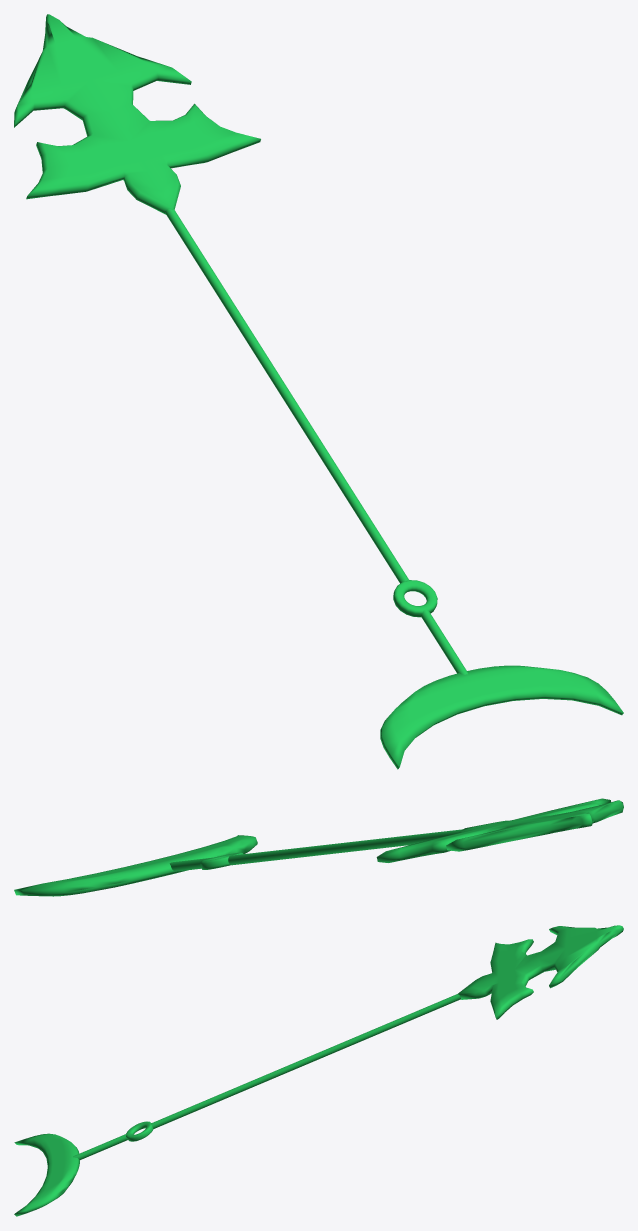
The model's file is aiguille.FBX.
3 views of the same model, one above another, from view 1: azimuth 30°, elevation 25°; view 2: azimuth 210°, elevation 25°; view 3: azimuth 270°, elevation 25° (orthographic). The views are drawn at different scales.
Visible parts, largest first — view 1: g_aiguille_aiguille; view 2: g_aiguille_aiguille; view 3: g_aiguille_aiguille.
Part boxes in pixels (x1,y1,x2,y2): g_aiguille_aiguille: (14, 14, 623, 769); g_aiguille_aiguille: (14, 798, 623, 896); g_aiguille_aiguille: (14, 925, 623, 1216).
Bounding box in the file's own units: 13.95 × 22.27 × 48.12.
